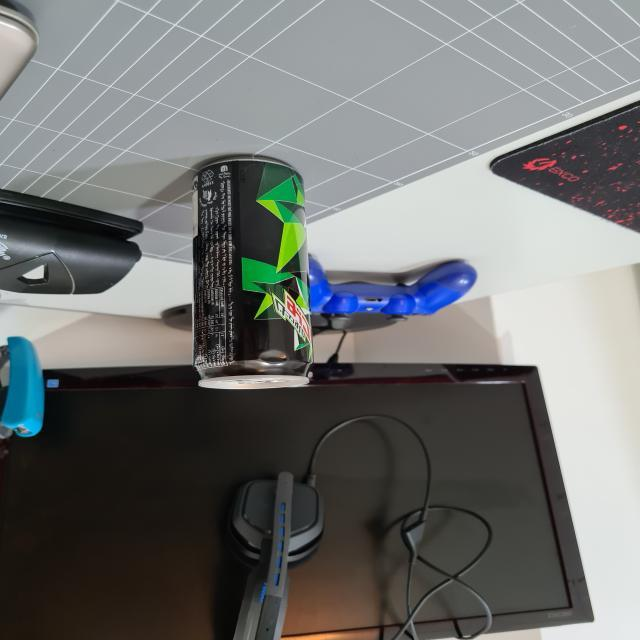can: (194, 157, 314, 391)
